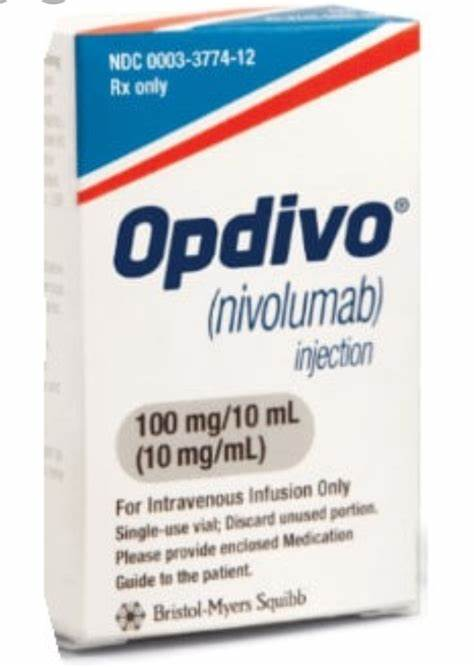Medicine: (46, 16, 432, 650)
